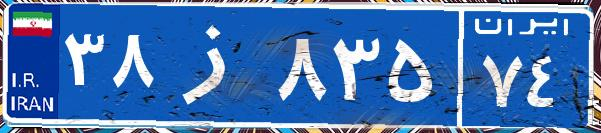3: (330, 28, 385, 110), (57, 26, 110, 107)
4: (525, 38, 570, 115)
5: (385, 28, 445, 110)
7: (475, 38, 525, 113)
8: (273, 28, 330, 110), (110, 28, 158, 105)
ز: (158, 15, 273, 115)
